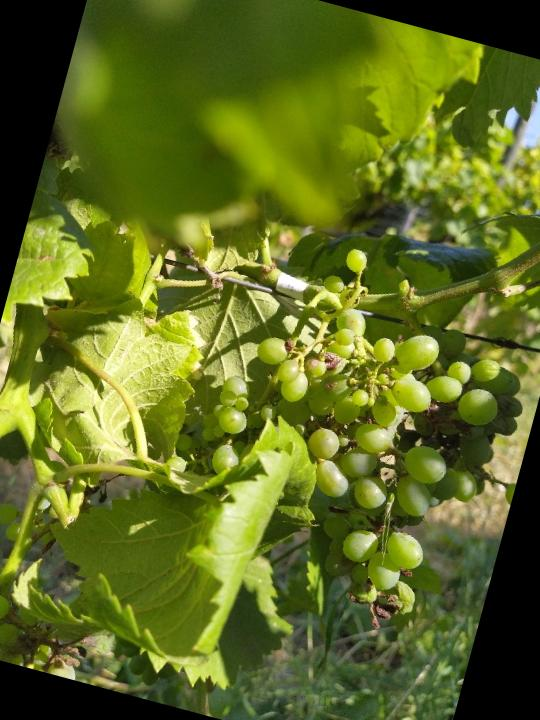grape: (144, 216, 540, 656)
